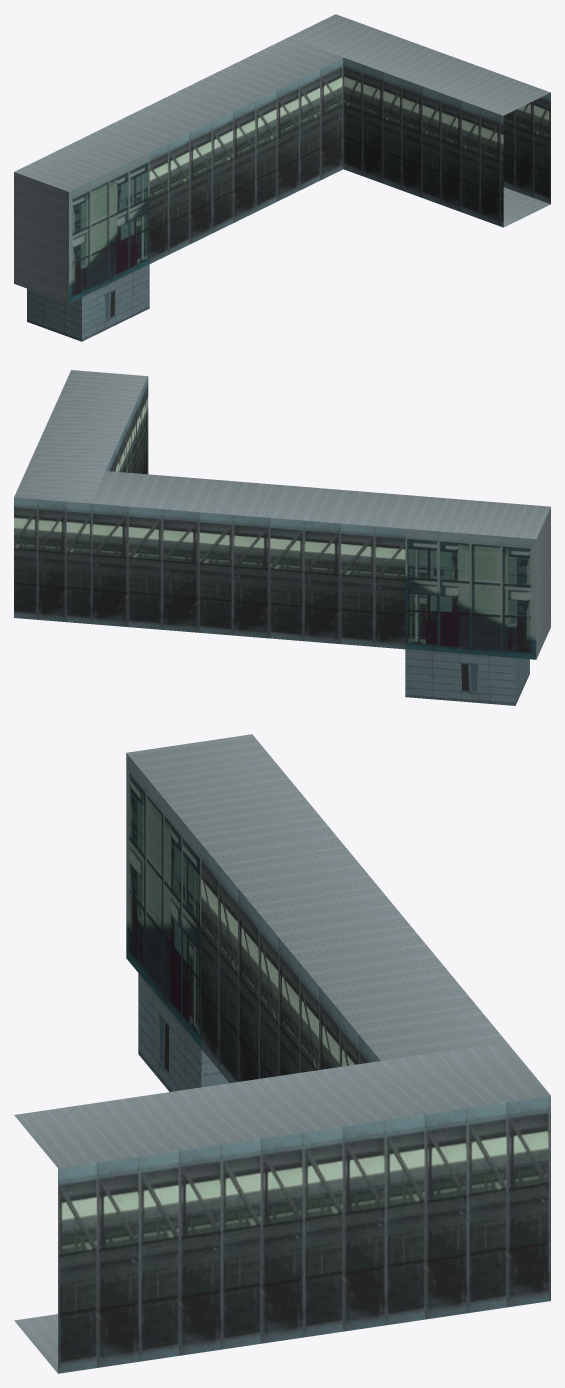
The model's file is bridge2.obj.
3 renders of one model, top to bottom at view 1: azimuth 30°, elevation 25°; view 2: azimuth 150°, elevation 25°; view 3: azimuth 270°, elevation 25°, orthographic. The views are drawn at different scales.
Parts seen in each view (by area): view 1: polySurface1637; view 2: polySurface1637; view 3: polySurface1637.
Part boxes in pixels (<box>): polySurface1637: <box>14,14,550,341</box>; polySurface1637: <box>14,370,550,705</box>; polySurface1637: <box>14,734,550,1373</box>.
Bounding box in the file's own units: 53.48 × 16.48 × 27.96.
